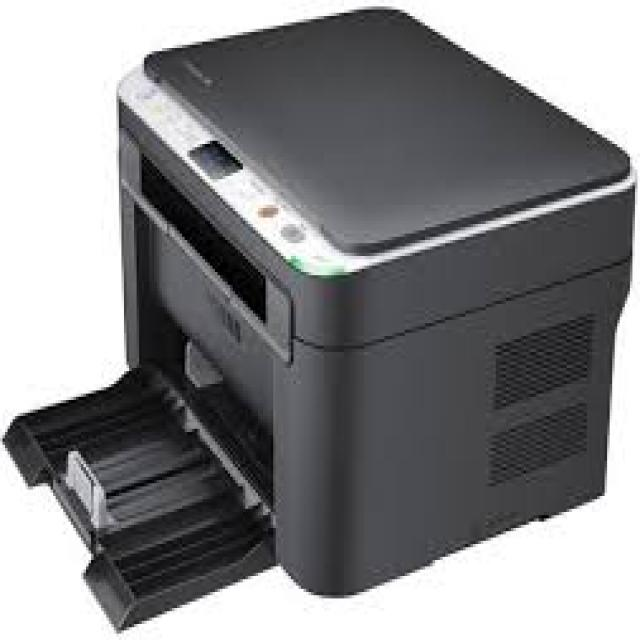printer: (2, 0, 640, 635)
